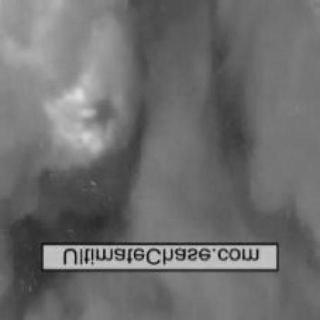Fire: (47, 57, 109, 194)
Smoke: (133, 13, 299, 255)
